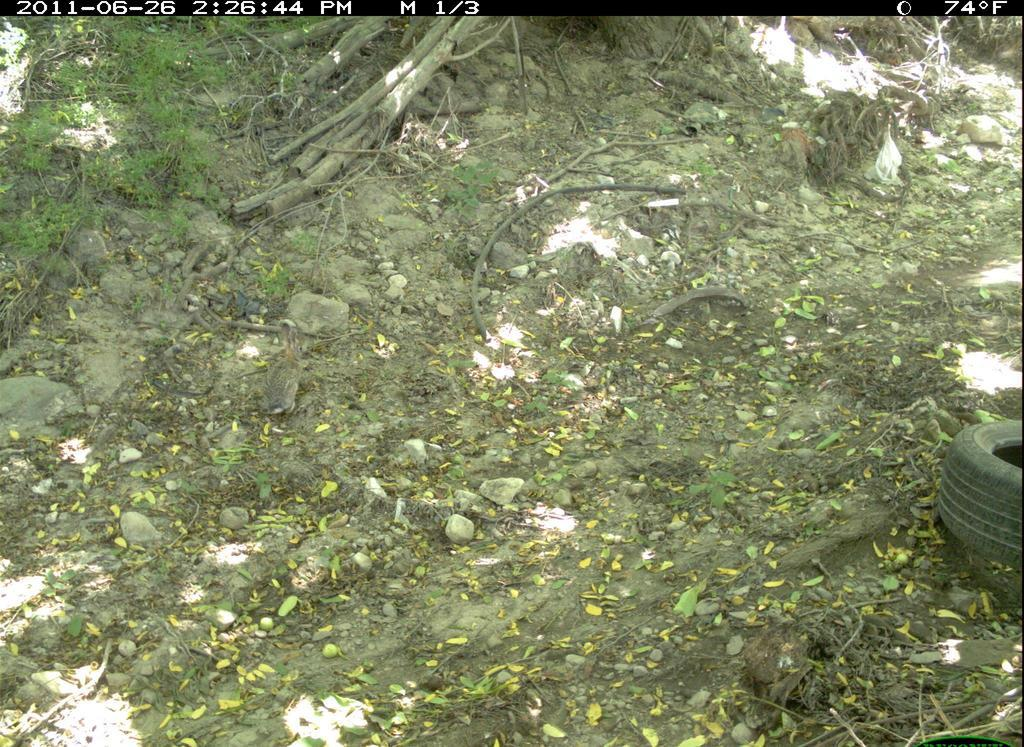rabbit: (255, 315, 314, 424)
